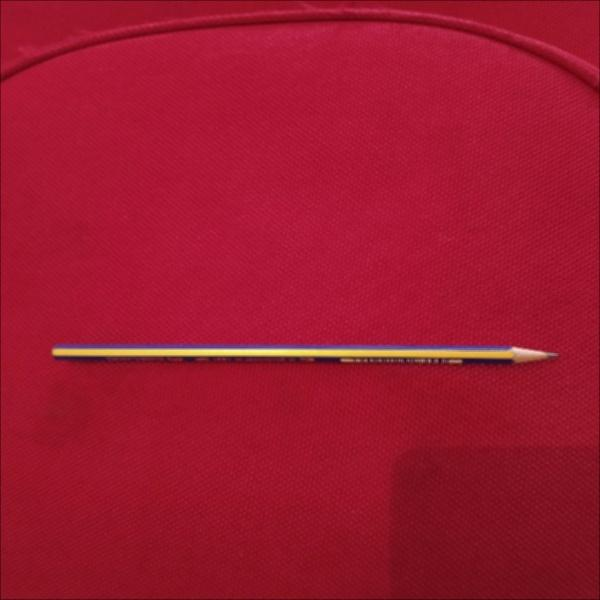pencil: (44, 339, 565, 371)
